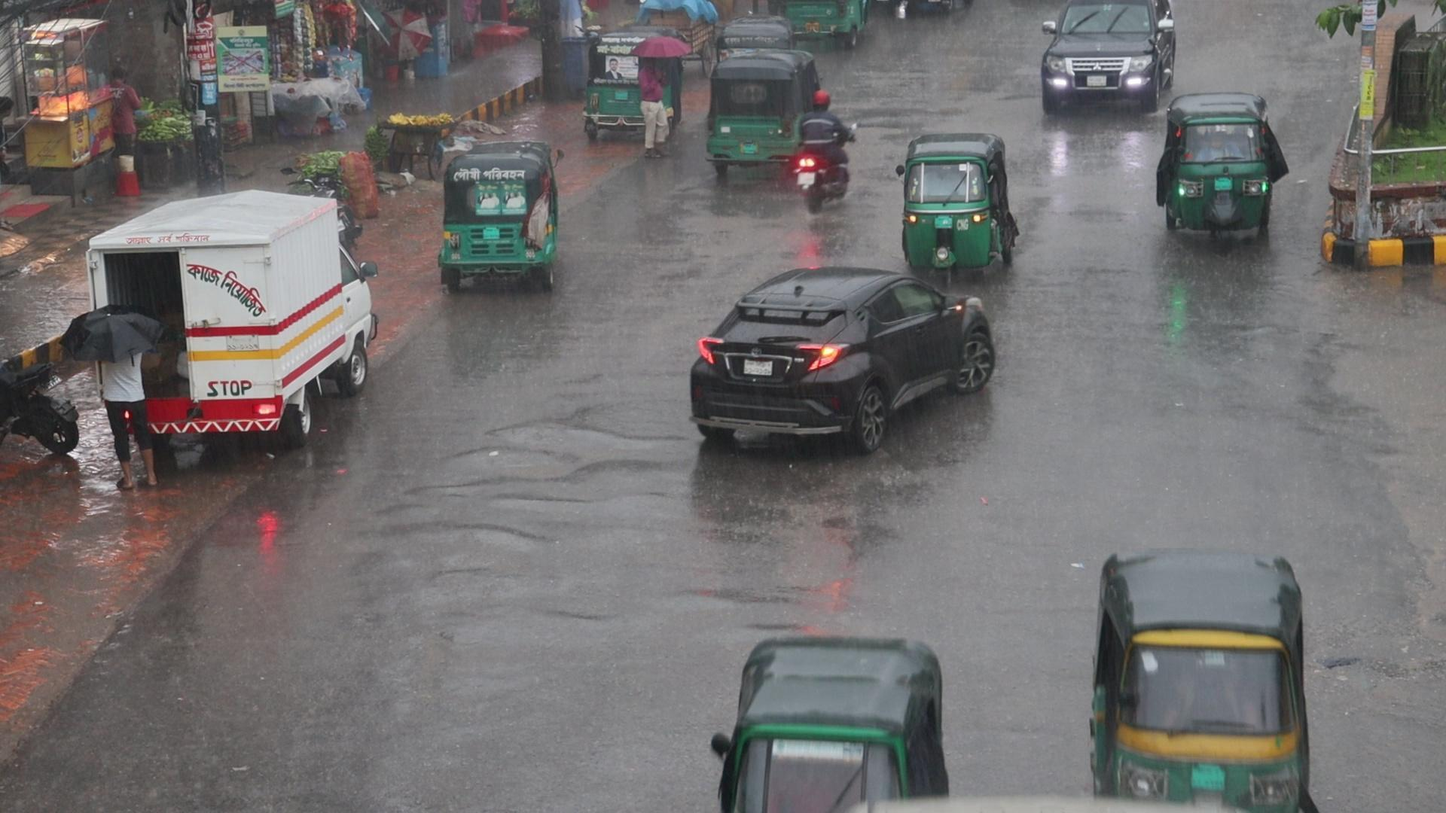Bike: (793, 89, 857, 212)
Car: (1036, 2, 1175, 110)
